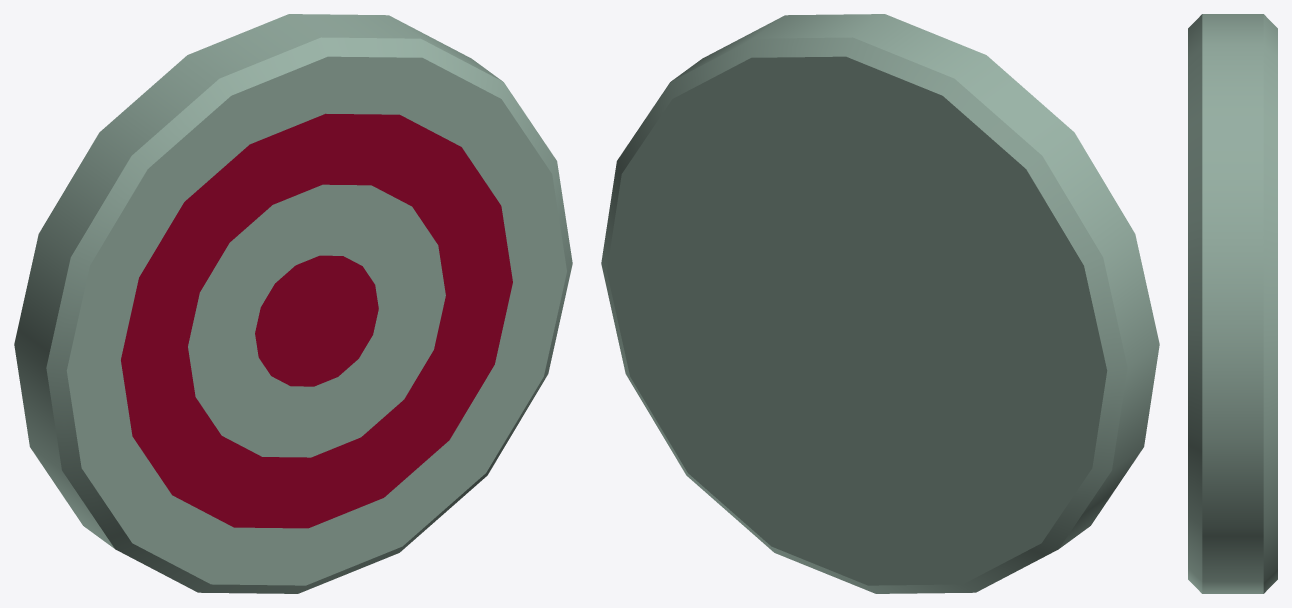
The model's file is Target.fbx.
3 views of the same model, side by side, from view 1: azimuth 30°, elevation 25°; view 2: azimuth 150°, elevation 25°; view 3: azimuth 270°, elevation 25° (orthographic). The views are drawn at different scales.
Parts seen in each view (by area): view 1: Cylinder; view 2: Cylinder; view 3: Cylinder.
Part boxes in pixels (bbox=[...]): Cylinder: bbox=[14, 14, 572, 593]; Cylinder: bbox=[601, 14, 1159, 593]; Cylinder: bbox=[1188, 14, 1277, 593].
Size of the model in its own units: 55.29 by 55.29 by 8.53.
